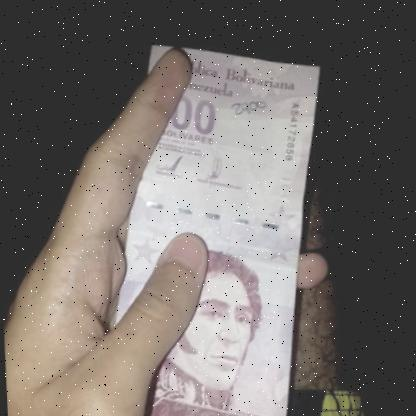one_hundred-front-vef: (98, 32, 335, 416)
